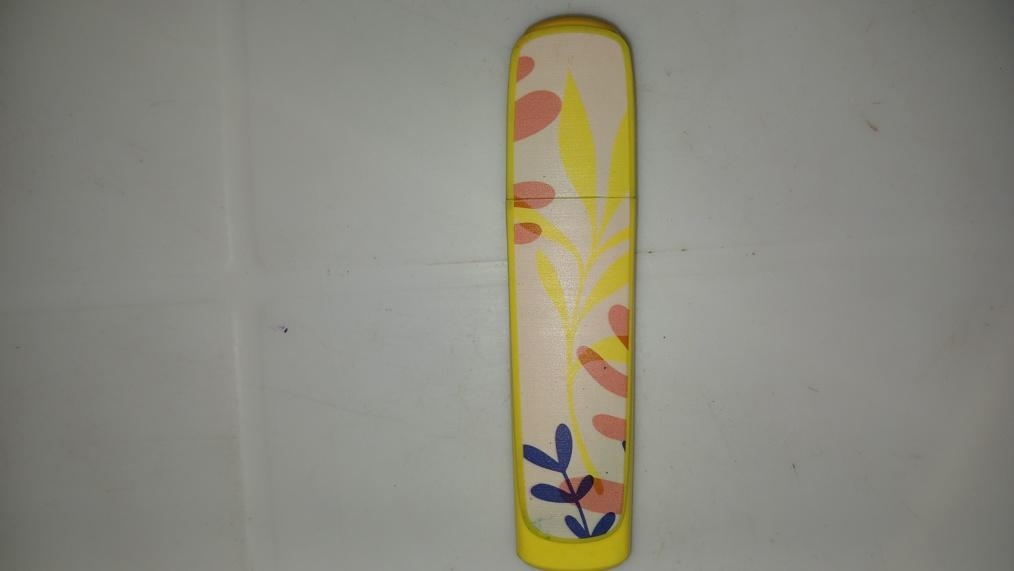Highlighter: (510, 16, 637, 571)
